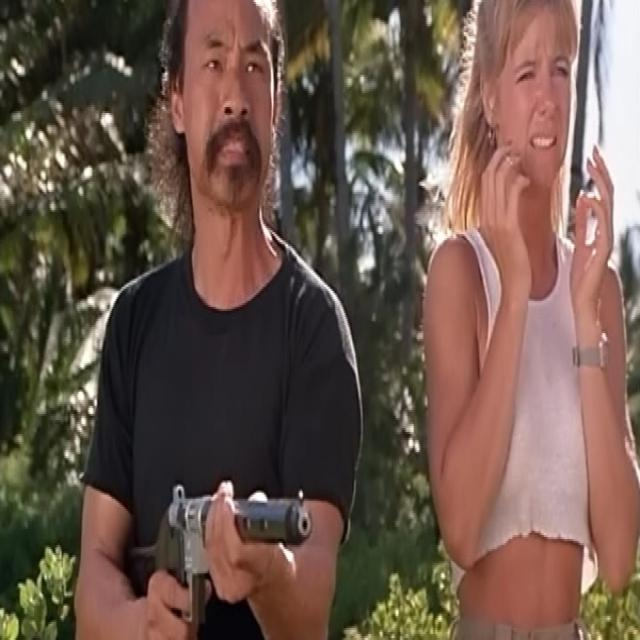rifle: (125, 479, 317, 640)
